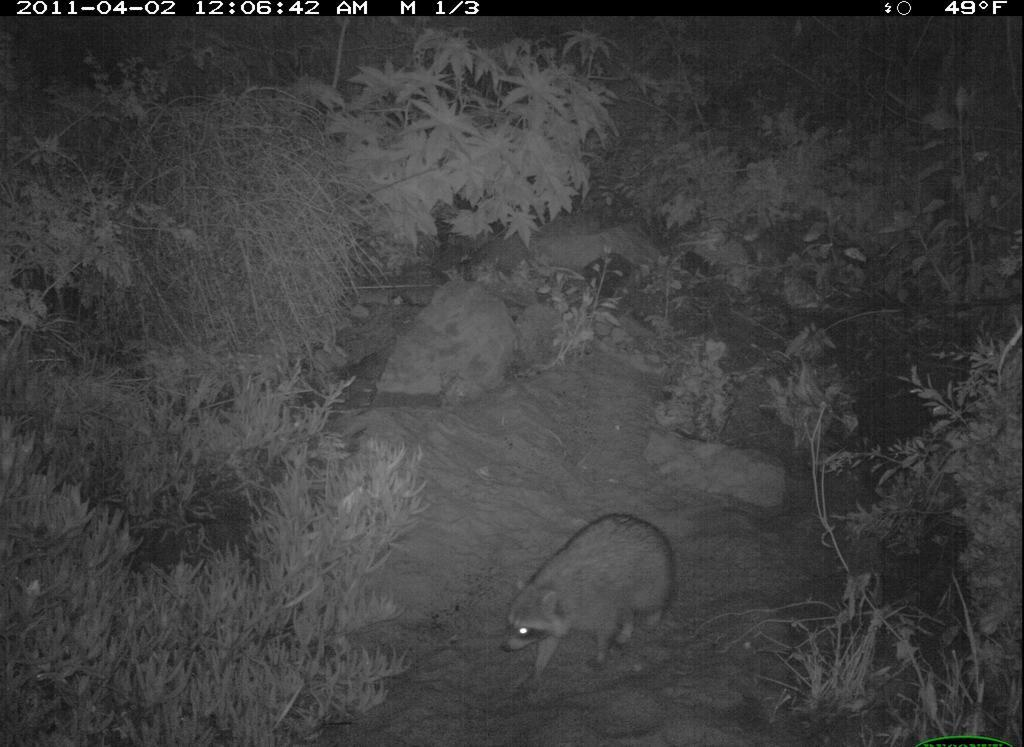raccoon: (492, 509, 688, 681)
